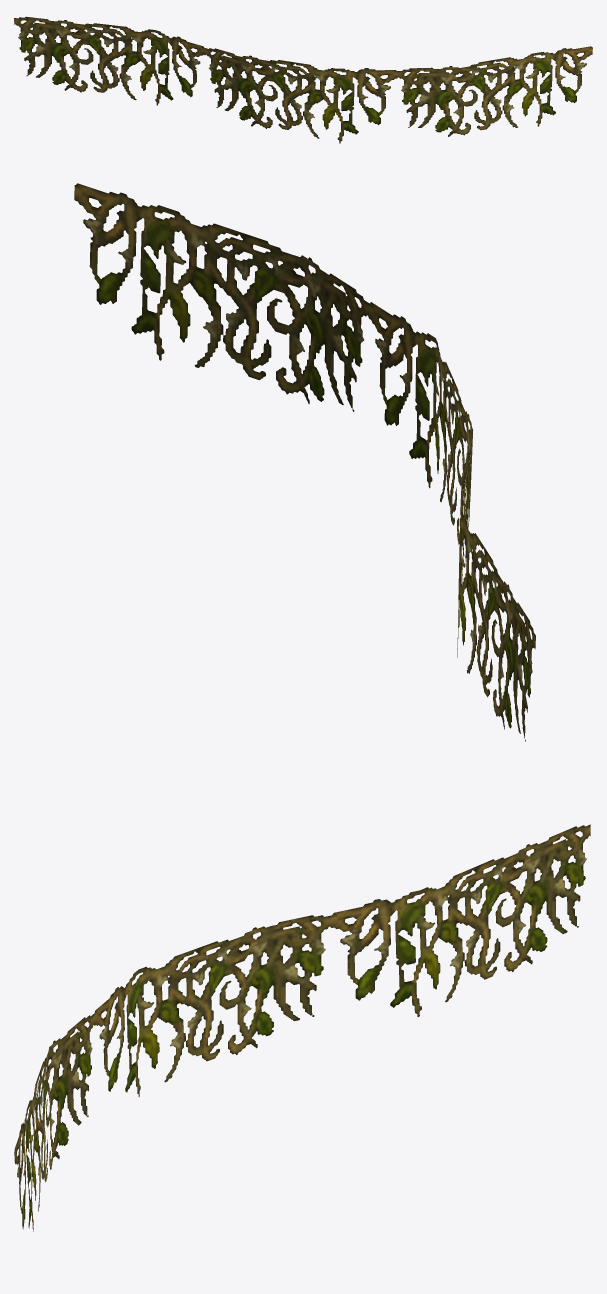
File: OVERHILL_A_01_LINE121.fbx
The picture shows the model from 3 angles, top to bottom: view 1: azimuth 30°, elevation 25°; view 2: azimuth 150°, elevation 25°; view 3: azimuth 270°, elevation 25°; orthographic projection. The views are drawn at different scales.
Parts seen in each view (by area): view 1: OVERHILL_A_01_LINE121; view 2: OVERHILL_A_01_LINE121; view 3: OVERHILL_A_01_LINE121.
Part boxes in pixels (x1,y1,x2,y2): OVERHILL_A_01_LINE121: [14, 16, 592, 143]; OVERHILL_A_01_LINE121: [74, 183, 535, 741]; OVERHILL_A_01_LINE121: [14, 824, 590, 1231].
Size of the model in its own units: 35666 by 6857 by 26685.
Materials: 1 (1 with a texture image).
